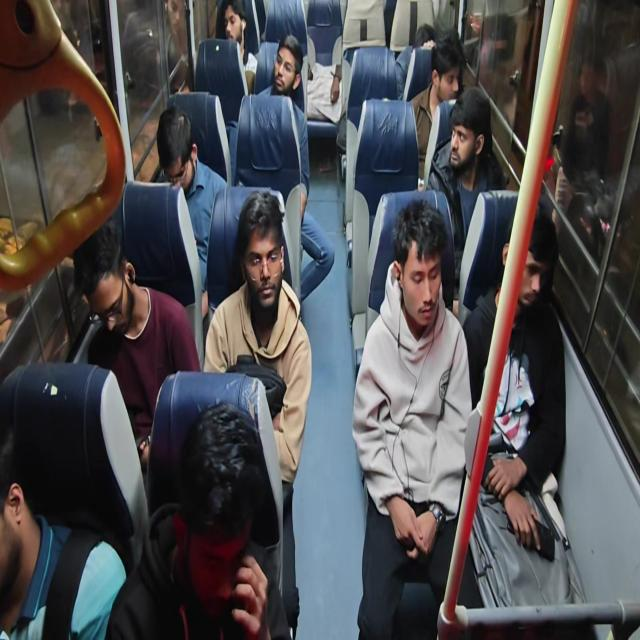person: (149, 394, 296, 640), (0, 418, 114, 640), (48, 229, 162, 396), (480, 181, 564, 342), (214, 199, 295, 353), (307, 42, 373, 203), (418, 34, 488, 124), (152, 110, 201, 208), (402, 221, 446, 321), (218, 0, 271, 82), (441, 108, 482, 194), (271, 37, 301, 113)
